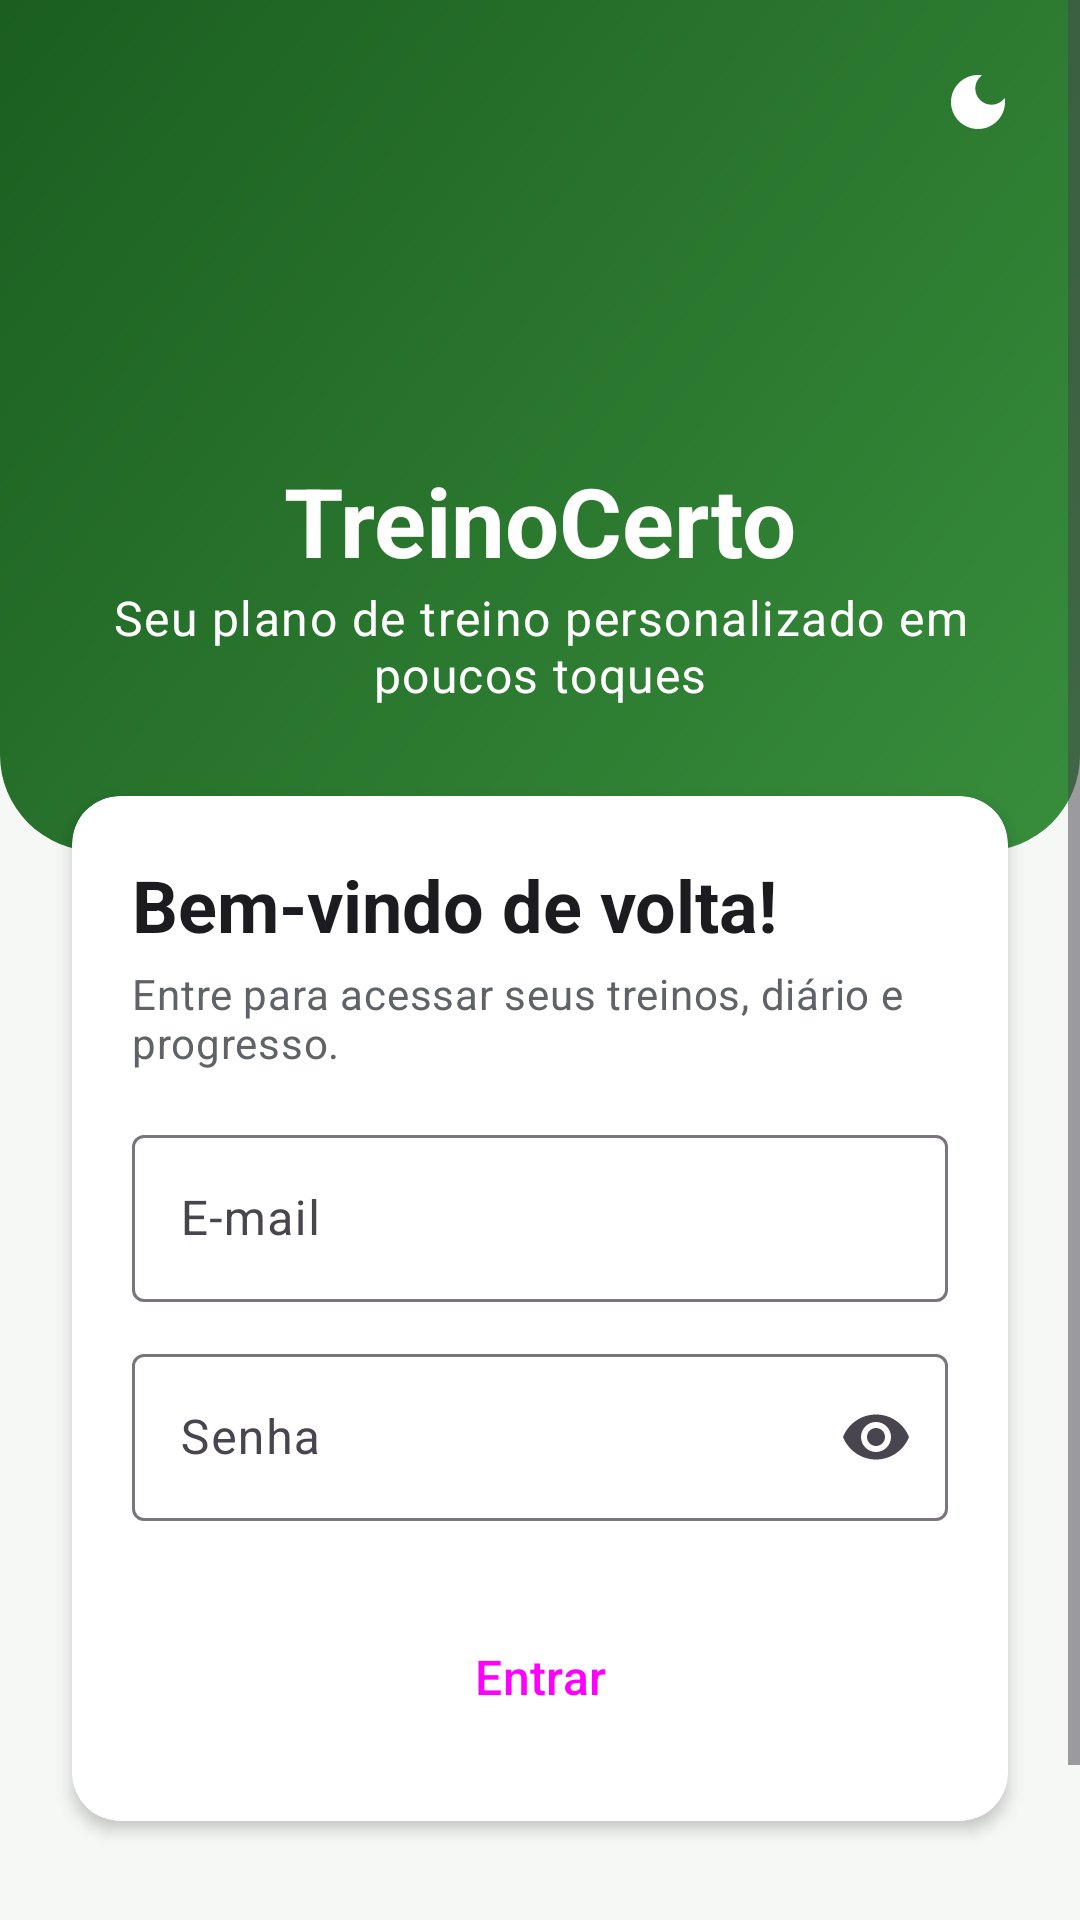

Named icons in this screenshot (1080x1920) and their centers, point (x, y):
Alternar tema claro/escuro: point (978, 102)
